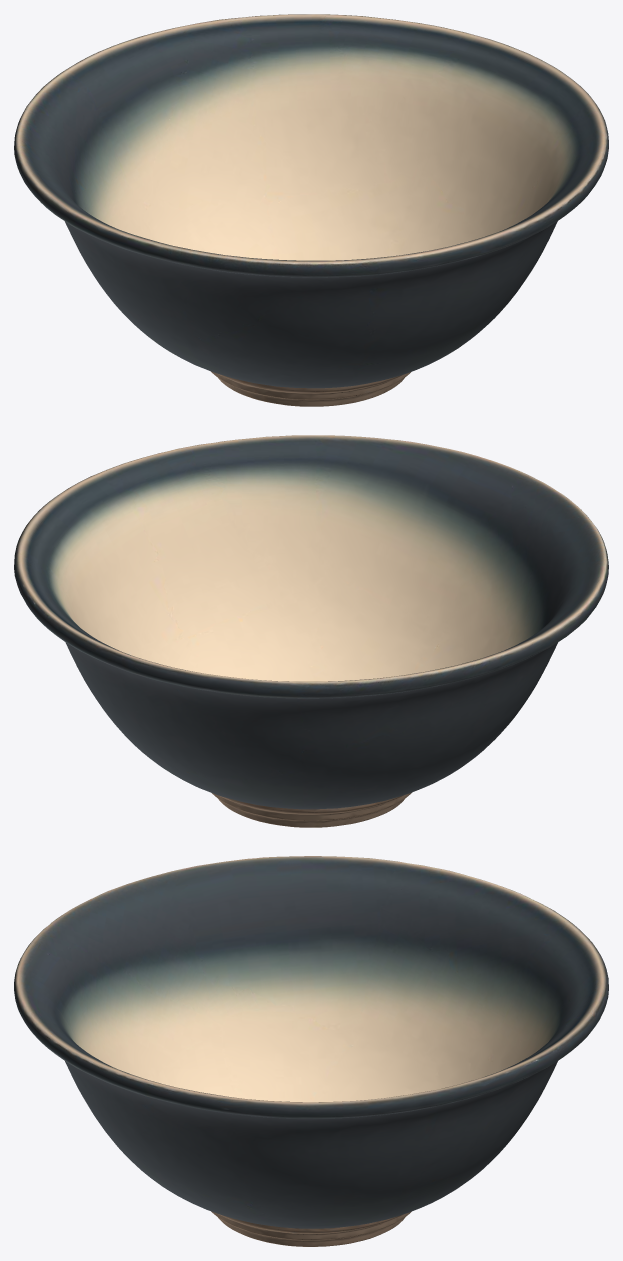
The model's file is bowl.glb.
3 views of the same model, one above another, from view 1: azimuth 30°, elevation 25°; view 2: azimuth 150°, elevation 25°; view 3: azimuth 270°, elevation 25° (orthographic).
Parts seen in each view (by area): view 1: tripo_node_87397fd6-1a7a-4035-a2ac-105801793abb; view 2: tripo_node_87397fd6-1a7a-4035-a2ac-105801793abb; view 3: tripo_node_87397fd6-1a7a-4035-a2ac-105801793abb.
Part boxes in pixels (left/top/right/bottom): tripo_node_87397fd6-1a7a-4035-a2ac-105801793abb: left=14, top=14, right=608, bottom=406; tripo_node_87397fd6-1a7a-4035-a2ac-105801793abb: left=14, top=435, right=608, bottom=827; tripo_node_87397fd6-1a7a-4035-a2ac-105801793abb: left=14, top=856, right=608, bottom=1246.
Size of the model in its own units: 0.9991 by 0.4218 by 1.
Materials: 1 (1 with a texture image).
